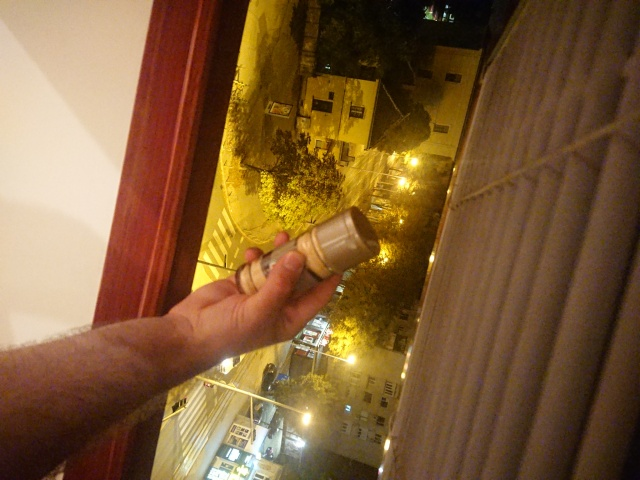Kotanyi Garlic Granules 70g: (234, 205, 382, 306)
